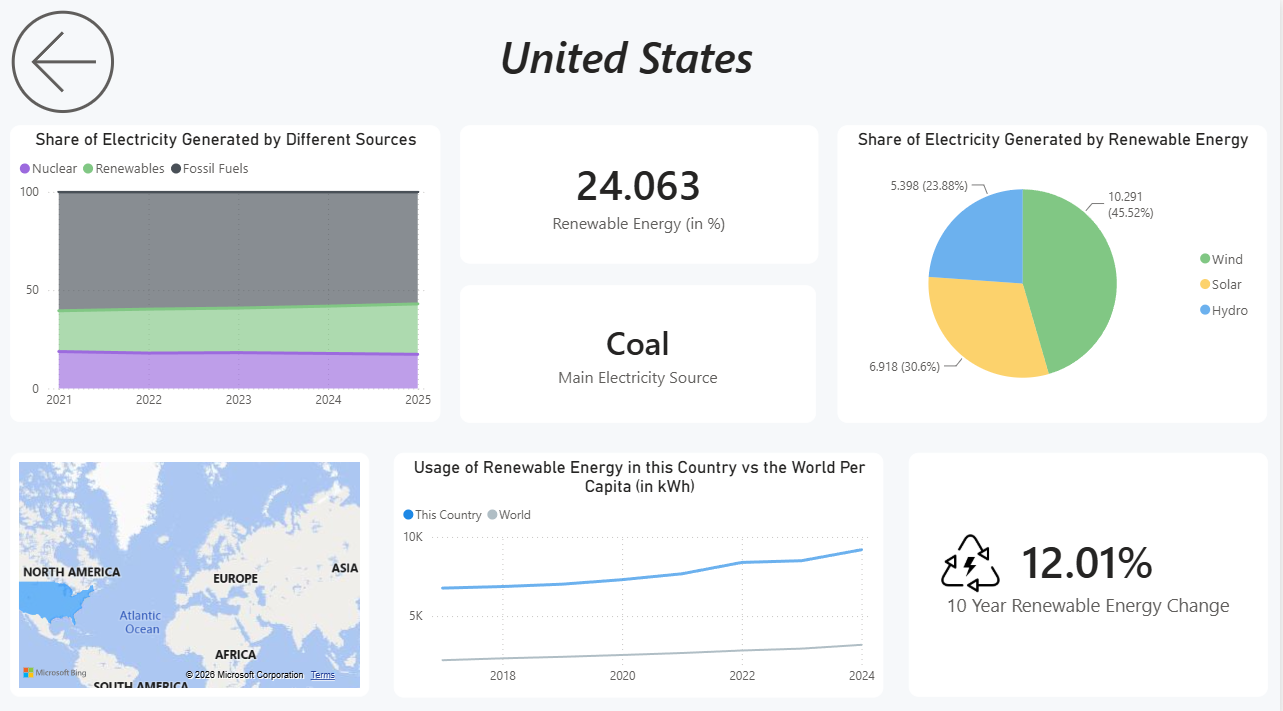

The page's visual inventory and layout, read from the dashboard file:
{"tool":"powerbi","page":{"name":"Country Drill Through","canvas":[1280,720],"ordinal":2},"visuals":[{"type":"actionButton","box":[0,0,137.1,125.7],"z":0},{"type":"cardVisual","fields":{"Data":["_Measures.10_Year_Renewable_Share_Change"]},"box":[908.4,453.6,359.3,243.7],"z":0,"group":"g1"},{"type":"clusteredBarChart","title":"Electricity Generation vs Demand Comparison in tWh","fields":{"Y":["Sum(energy_fact.electricity_generation)","Sum(energy_fact.electricity_demand)"],"Category":["date_dim.year_id"]},"box":[460,490,240,170],"z":1000},{"type":"image","box":[941.3,533.8,58.8,62.5],"z":1000,"group":"g1"},{"type":"cardVisual","fields":{"Data":["Min(country_dim.country)"]},"box":[311.4,0,630,110],"z":2000},{"type":"pieChart","title":"Share of Electricity Generated by Renewable Energy","fields":{"Y":["Sum(energy_fact.wind_share_elec)","Sum(energy_fact.solar_share_elec)","Sum(energy_fact.hydro_share_elec)"]},"box":[838,125.6,429.7,297.8],"z":3000},{"type":"lineChart","title":"Usage of Renewable Energy in this Country vs the World Per Capita (in kWh)","fields":{"Y":["Sum(energy_fact.renewables_energy_per_capita)","_Measures.Renewable Energy Consumption World Per Capita Total"],"Category":["date_dim.year_id"]},"box":[393.9,453.6,490,245],"z":4000},{"type":"cardVisual","fields":{"Data":["_Measures.Top_1_Electricity_Source"]},"box":[460,286.2,356.2,137.5],"z":5000},{"type":"stackedAreaChart","title":"Share of Electricity Generated by Different Sources","fields":{"Category":["date_dim.year_id"],"Y":["Sum(energy_fact.nuclear_share_elec)","Sum(energy_fact.renewables_share_elec)","Sum(energy_fact.fossil_share_elec)"]},"box":[10,125.7,430,297.1],"z":6000},{"type":"cardVisual","fields":{"Data":["Sum(energy_fact.renewables_share_elec)"]},"box":[460,126.2,358.8,138.8],"z":7000},{"type":"filledMap","fields":{"Category":["country_dim.country"]},"box":[10.1,453.6,359.3,243.7],"z":8000},{"type":"group","id":"g1","title":"Group 1","box":[908.4,453.6,359.3,243.7],"z":9002}]}

Visuals, with their boxes in screenshot pixels (x1, y1, x2, y2), scaled from the page's 1280x720 canvas onto the 1283x711 screenshot:
actionButton: x1=0 y1=0 x2=137 y2=124
cardVisual - _Measures.10_Year_Renewable_Share_Change: x1=911 y1=448 x2=1271 y2=689
"Electricity Generation vs Demand Comparison in tWh" clusteredBarChart: x1=461 y1=484 x2=702 y2=652
image: x1=944 y1=527 x2=1002 y2=589
cardVisual - Min(country_dim.country): x1=312 y1=0 x2=944 y2=109
"Share of Electricity Generated by Renewable Energy" pieChart: x1=840 y1=124 x2=1271 y2=418
"Usage of Renewable Energy in this Country vs the World Per Capita (in kWh)" lineChart: x1=395 y1=448 x2=886 y2=690
cardVisual - _Measures.Top_1_Electricity_Source: x1=461 y1=283 x2=818 y2=418
"Share of Electricity Generated by Different Sources" stackedAreaChart: x1=10 y1=124 x2=441 y2=418
cardVisual - Sum(energy_fact.renewables_share_elec): x1=461 y1=125 x2=821 y2=262
filledMap - country_dim.country: x1=10 y1=448 x2=370 y2=689
"Group 1" group: x1=911 y1=448 x2=1271 y2=689
